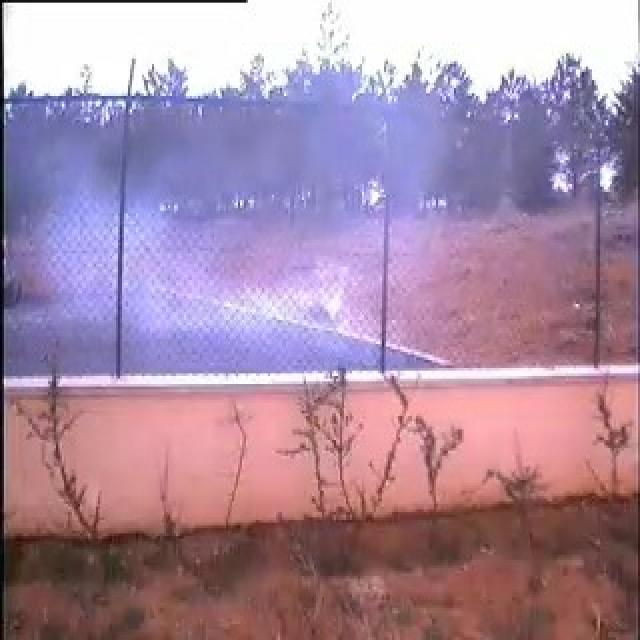smoke: (122, 98, 388, 374)
